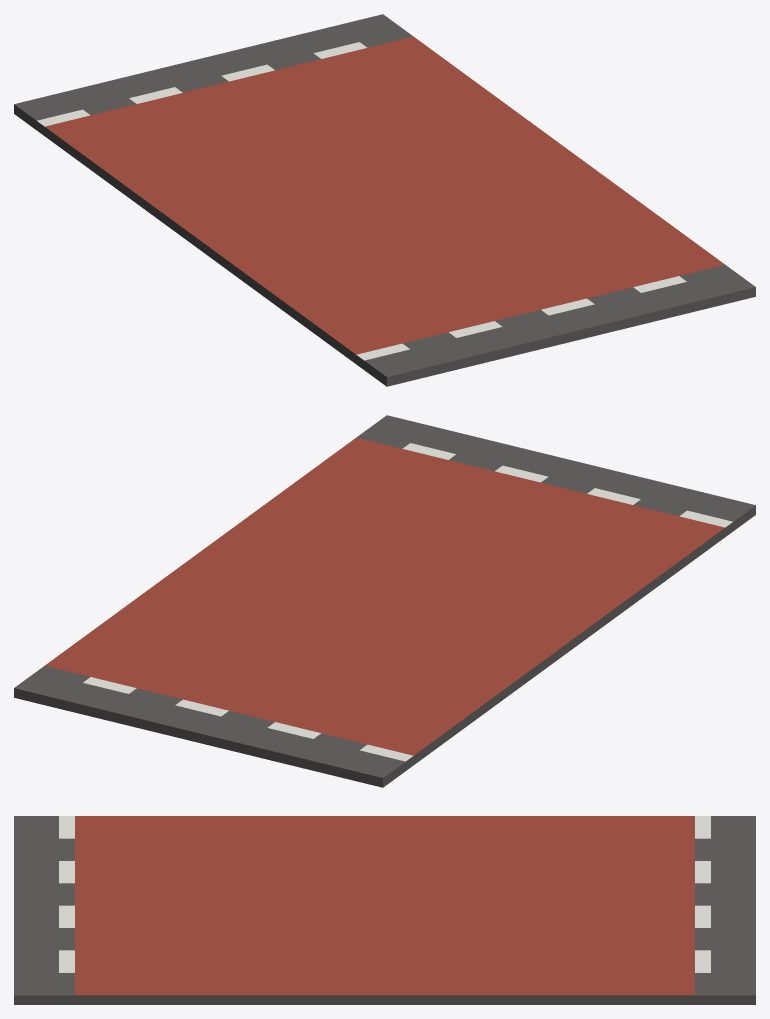
File: SM_Ground_RoadJunction_700x400_01.fbx
3 renders of one model, top to bottom at view 1: azimuth 30°, elevation 25°; view 2: azimuth 150°, elevation 25°; view 3: azimuth 270°, elevation 25°, orthographic.
Visible parts, largest first — view 1: SM_Ground_RoadJunction_700x400_01; view 2: SM_Ground_RoadJunction_700x400_01; view 3: SM_Ground_RoadJunction_700x400_01.
Boxes of the visible parts, bbox=[...] form: SM_Ground_RoadJunction_700x400_01: bbox=[14, 14, 755, 386]; SM_Ground_RoadJunction_700x400_01: bbox=[14, 415, 755, 787]; SM_Ground_RoadJunction_700x400_01: bbox=[14, 816, 755, 1004].
Bounding box in the file's own units: 4 × 0.1 × 7.
Materials: 1 (1 with a texture image).
